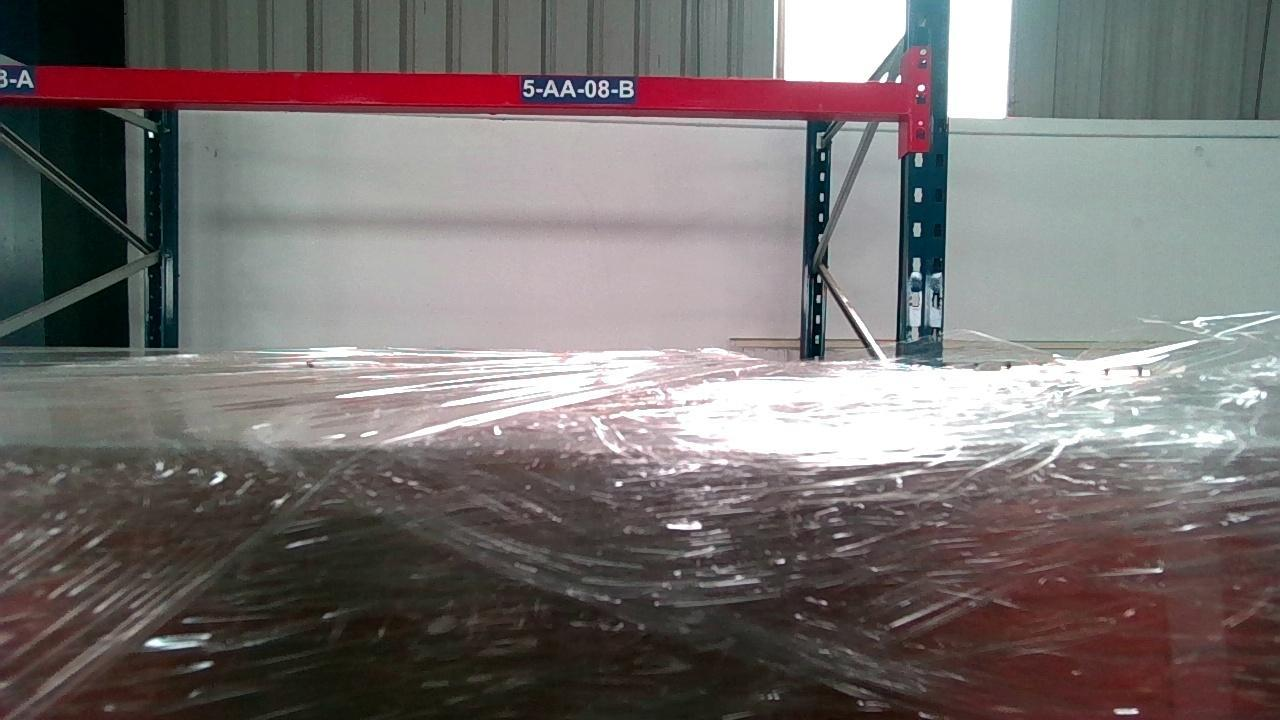h_rack: (0, 64, 912, 115)
